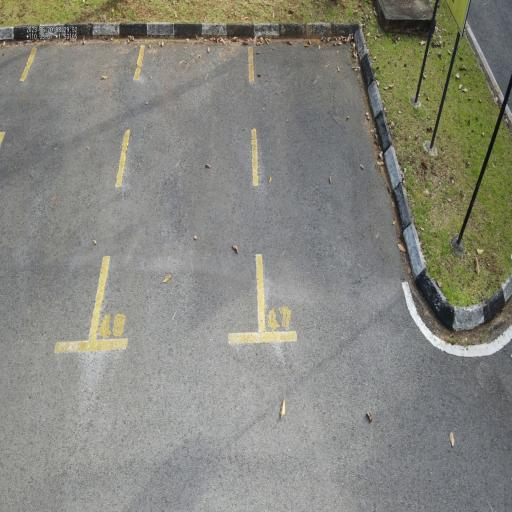Empty: (243, 24, 438, 347), (87, 26, 268, 355)
